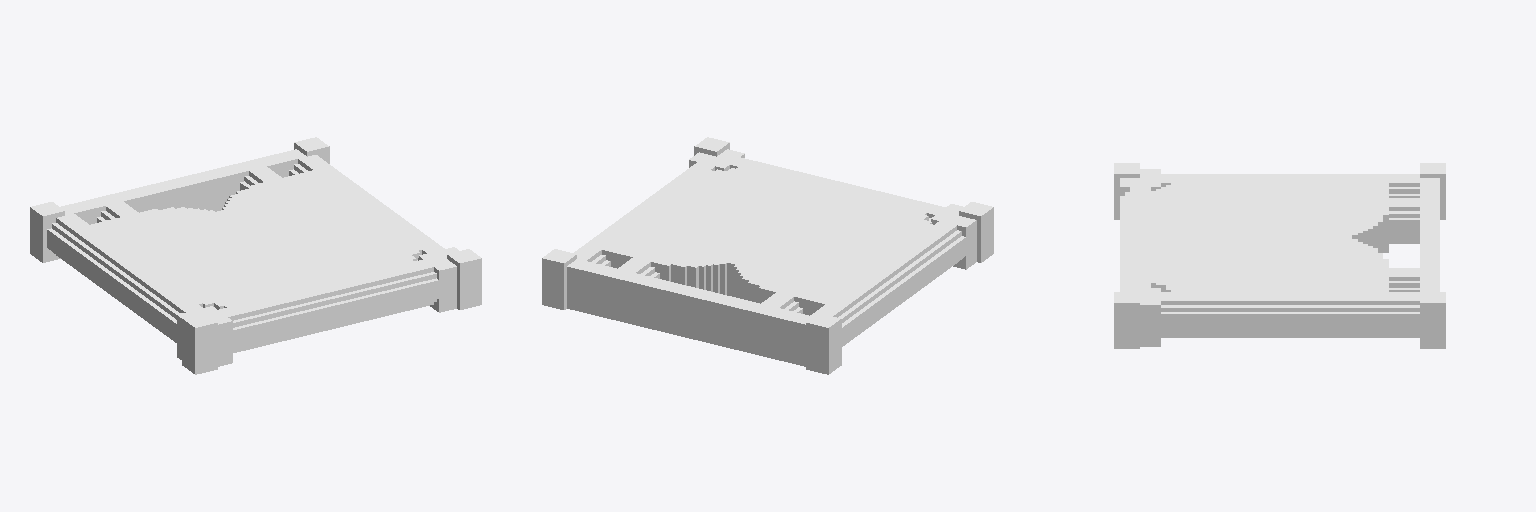
Rendered from ConveyorT.obj.
3 renders of one model, left to right at view 1: azimuth 30°, elevation 25°; view 2: azimuth 150°, elevation 25°; view 3: azimuth 270°, elevation 25°, orthographic.
Bounding box in the file's own units: 64 × 10 × 64.